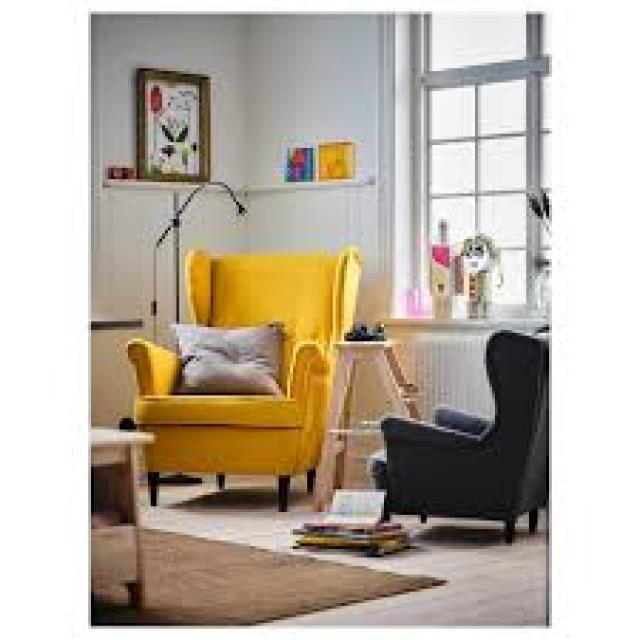chair: (103, 221, 396, 537), (362, 300, 541, 588)
